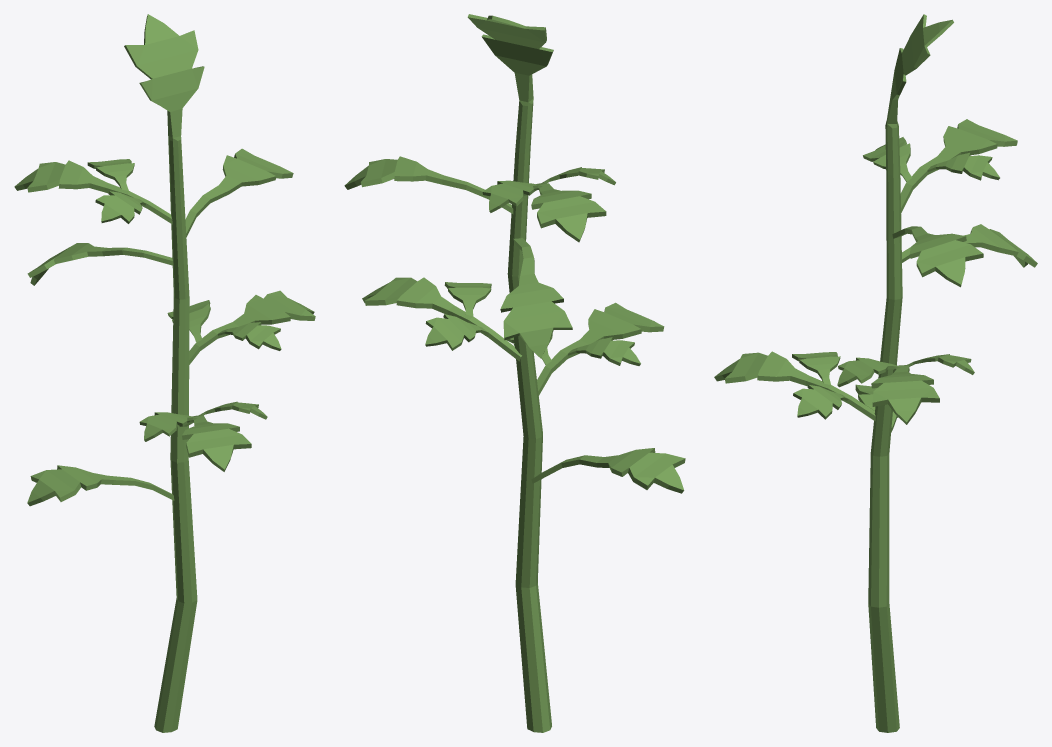
Rendered from quaternius-crops-tomato-3.glb.
3 renders of one model, left to right at view 1: azimuth 30°, elevation 25°; view 2: azimuth 150°, elevation 25°; view 3: azimuth 270°, elevation 25°, orthographic. The views are drawn at different scales.
Visible parts, largest first — view 1: Tomato_3; view 2: Tomato_3; view 3: Tomato_3.
Part boxes in pixels (bbox=[...]): Tomato_3: bbox=[14, 14, 315, 732]; Tomato_3: bbox=[344, 14, 685, 732]; Tomato_3: bbox=[714, 14, 1037, 732].
Size of the model in its own units: 0.6408 by 1.43 by 0.5863.
